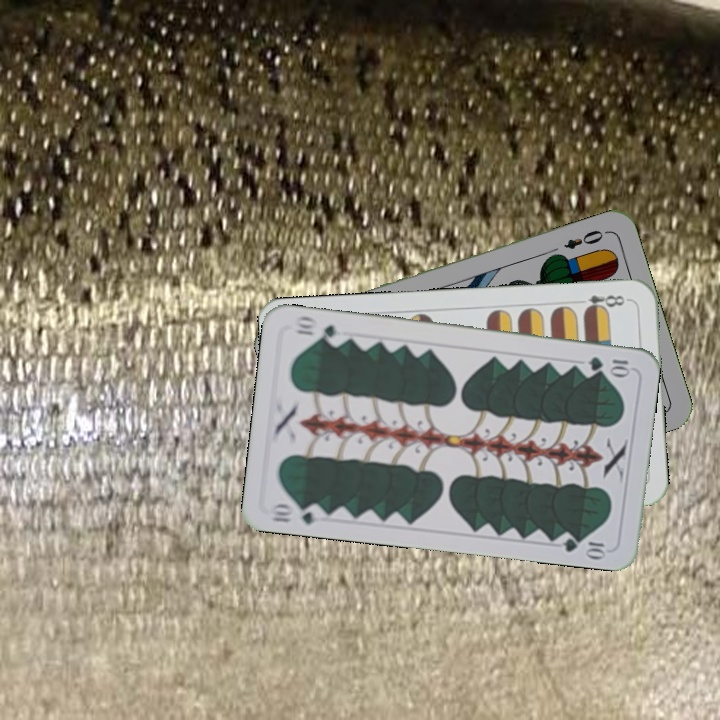E8: (572, 291, 632, 315)
EO: (560, 226, 610, 252)
G10: (266, 499, 326, 527), (584, 353, 634, 377)
